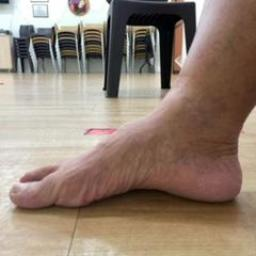Medial View -Right Foot-: (3, 82, 255, 224)
